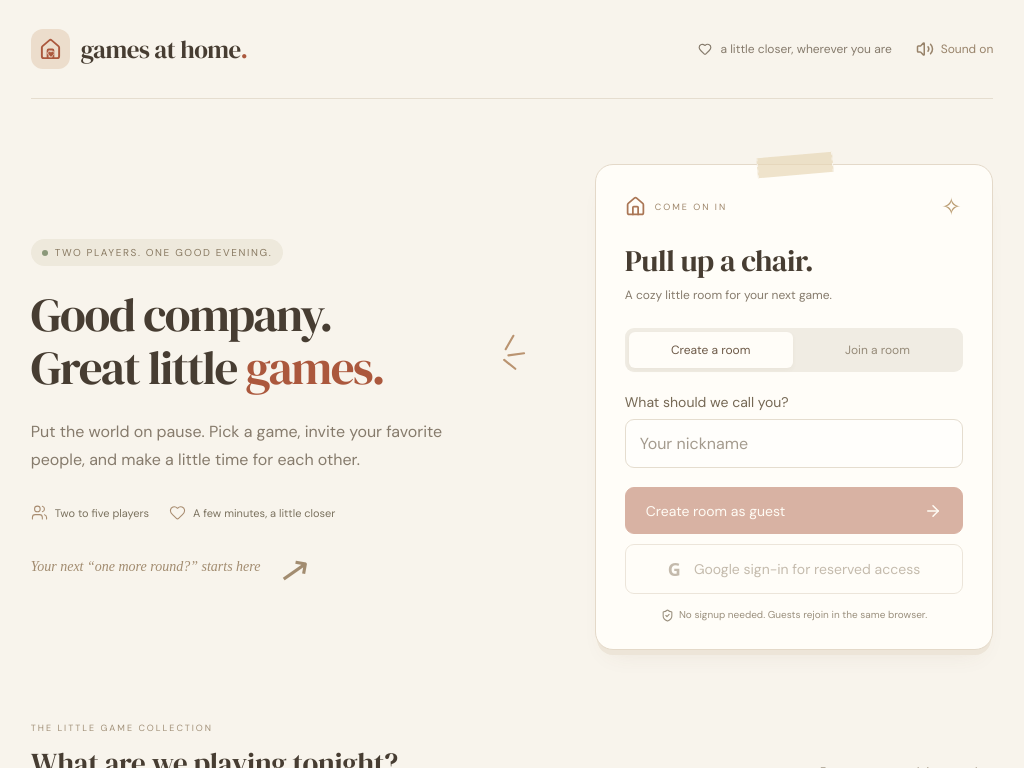
it: cozy home and game forms › directs reserved invitations to Google sign-in without creating a guest identity
Click the button "Join a room" at (877, 350), box [796, 332, 959, 368]
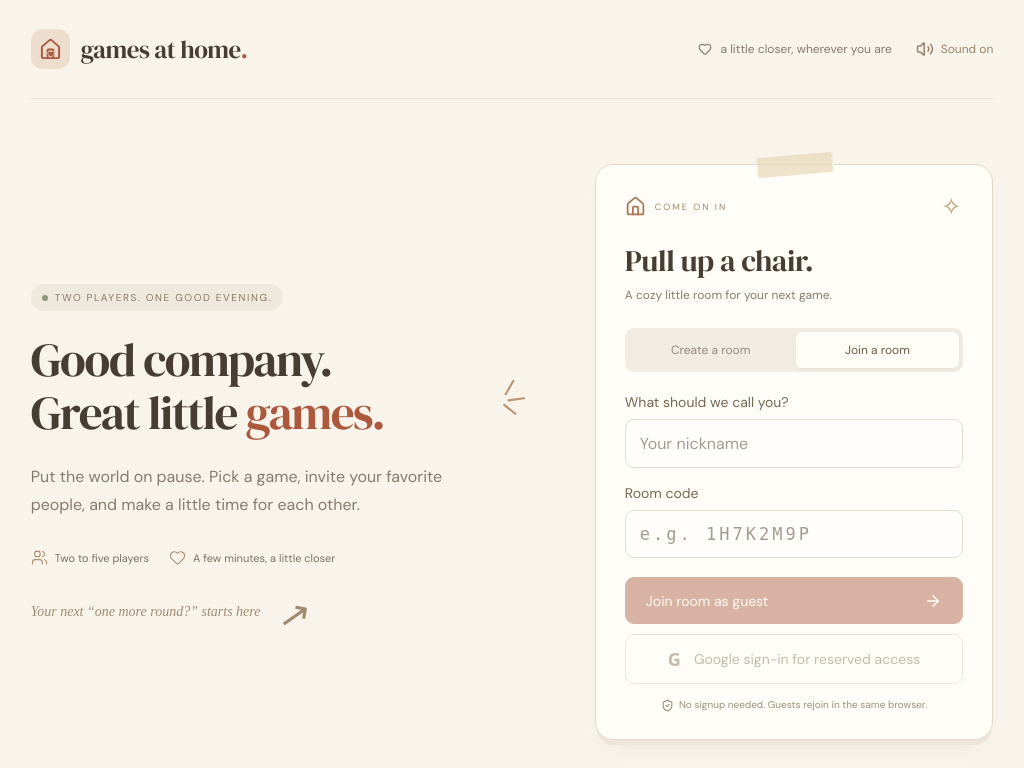
Type "Sam" into the field labelled "What should we call you?" at (794, 444), box [625, 419, 963, 468]
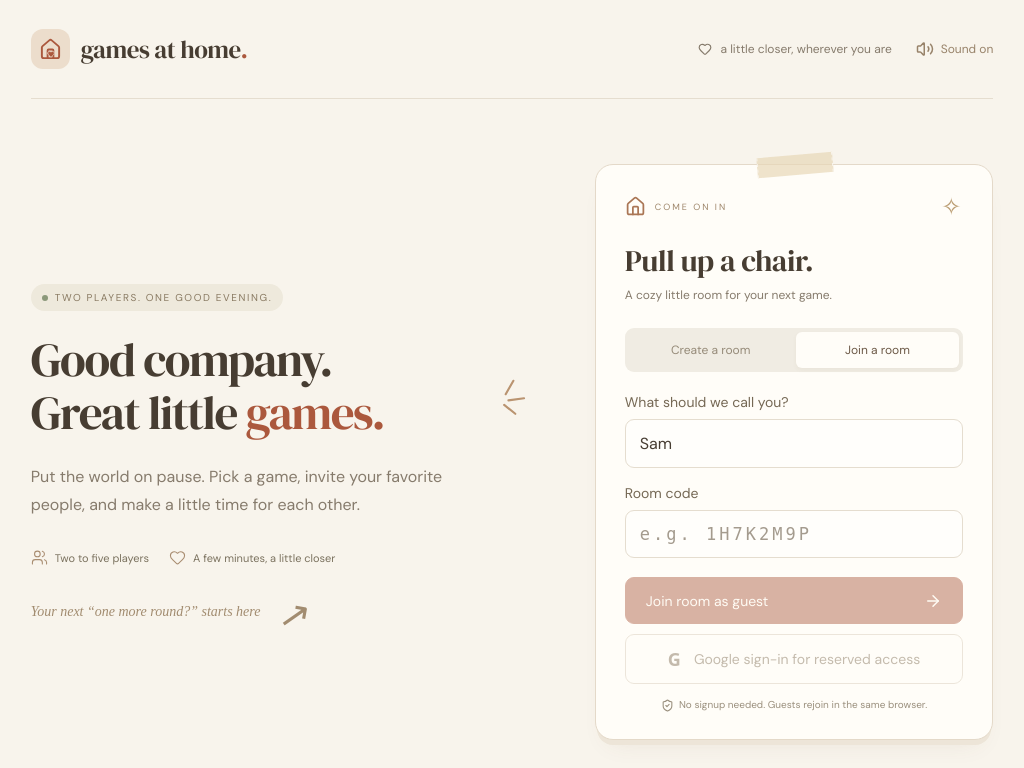
Type "0ABCDEFG" into the field labelled "Room code" at (794, 534), box [625, 510, 963, 558]
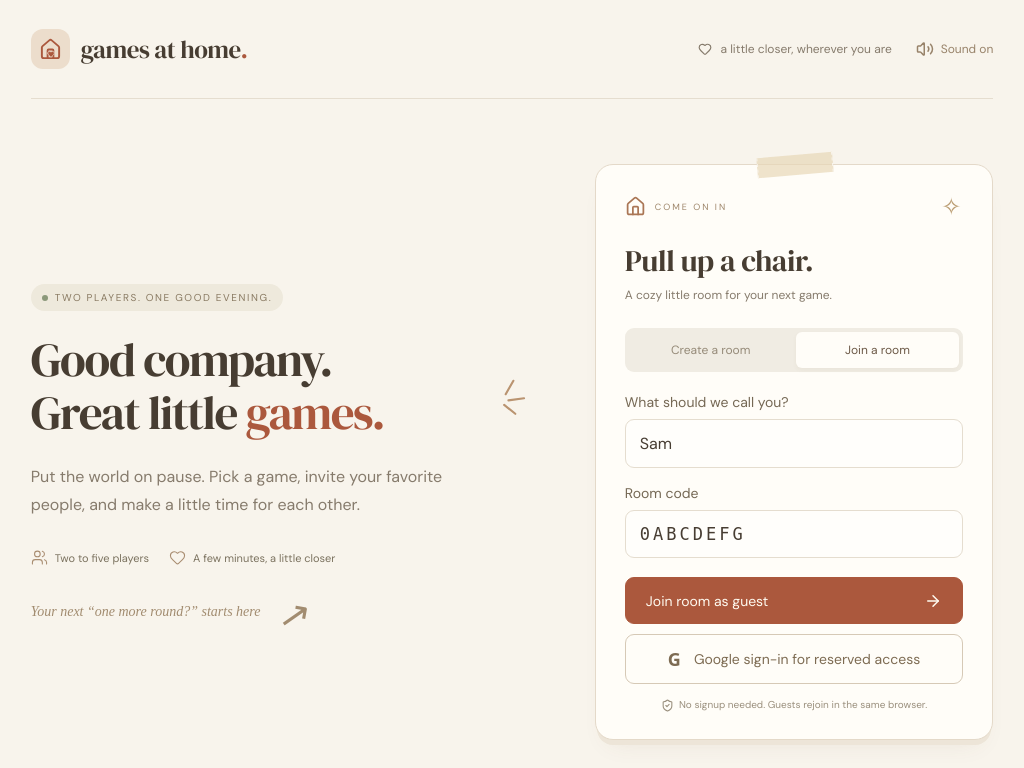
Now the button "Join room as guest" is enabled
Click the button "Join room as guest" at (707, 601), box [625, 577, 963, 624]
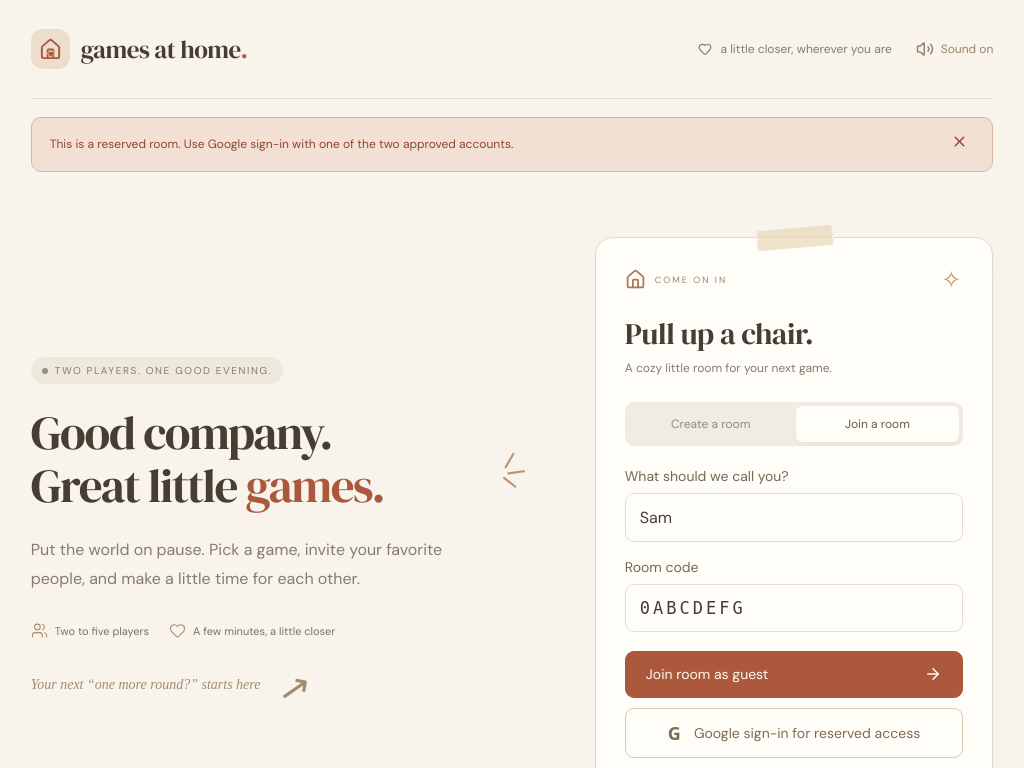
Now the message shows "This is a reserved room", box [50, 136, 513, 152]
